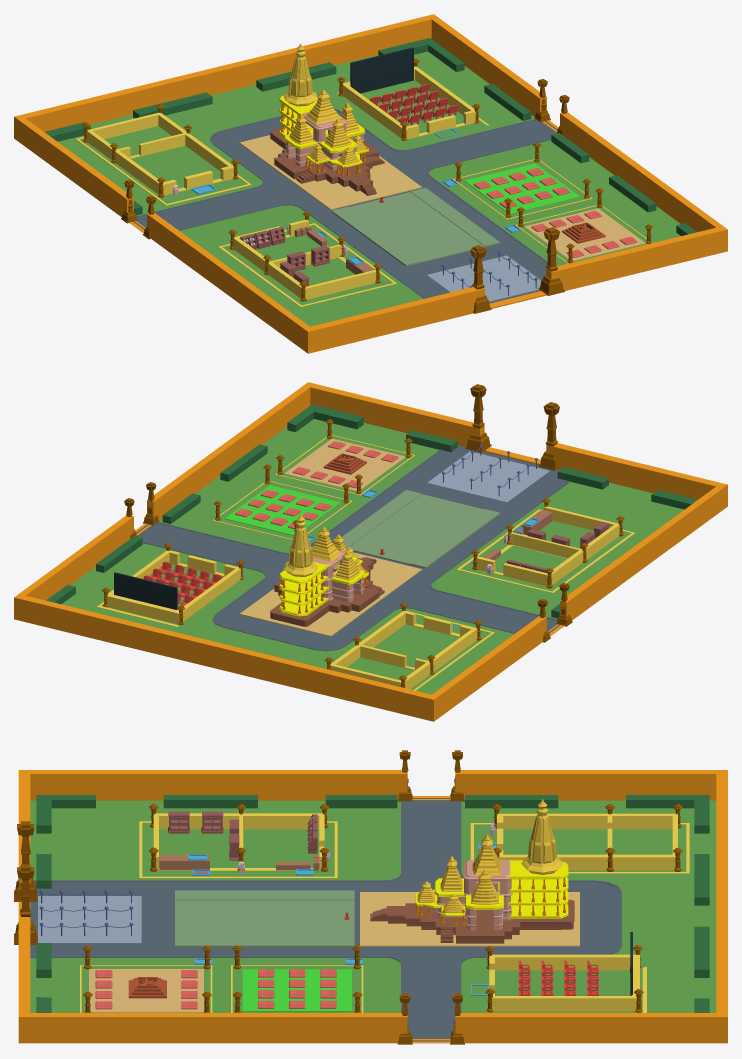
Rendered from Rammandir.fbx.
The picture shows the model from 3 angles, top to bottom: view 1: azimuth 30°, elevation 25°; view 2: azimuth 150°, elevation 25°; view 3: azimuth 270°, elevation 25°; orthographic projection. The views are drawn at different scales.
Visible parts, largest first — view 1: Plane.022, back wallBIG, Plane.005, Plane.008, Plane.007, Plane.035, Plane.023, Plane.034, pillars, Plane.015, Plane.028, Plane.018 (+15 smaller); view 2: back wallBIG, Plane.022, Plane.005, Plane.008, Plane.007, Plane.035, Plane.034, Plane.015, Plane.028, Plane.023, pillars, Plane.014 (+13 smaller); view 3: Plane.022, back wallBIG, Plane.005, Plane.008, Plane.007, Plane.035, Plane.028, Plane.015, Plane.023, Grid, Plane.014, Plane.027 (+20 smaller).
Part boxes in pixels (bbox=[...]): Plane.022: bbox=[58, 51, 680, 326]; back wallBIG: bbox=[14, 14, 727, 353]; Plane.005: bbox=[133, 108, 557, 303]; Plane.008: bbox=[331, 187, 500, 266]; Plane.007: bbox=[44, 38, 696, 235]; Plane.035: bbox=[87, 112, 233, 195]; Plane.023: bbox=[239, 135, 421, 209]; Plane.034: bbox=[233, 220, 376, 299]; pillars: bbox=[121, 79, 569, 313]; Plane.015: bbox=[427, 255, 541, 301]; Plane.028: bbox=[342, 66, 475, 139]; Plane.018: bbox=[289, 89, 365, 165]; back wallBIG: bbox=[14, 382, 727, 721]; Plane.022: bbox=[62, 419, 683, 694]; Plane.005: bbox=[136, 445, 570, 651]; Plane.008: bbox=[333, 490, 500, 568]; Plane.007: bbox=[46, 404, 697, 618]; Plane.035: bbox=[330, 610, 477, 689]; Plane.034: bbox=[476, 506, 619, 586]; Plane.015: bbox=[427, 451, 549, 502]; Plane.028: bbox=[106, 550, 240, 623]; Plane.023: bbox=[239, 552, 422, 636]; pillars: bbox=[124, 384, 572, 642]; Plane.014: bbox=[284, 438, 405, 490]; Plane.022: bbox=[30, 800, 716, 1012]; back wallBIG: bbox=[18, 770, 727, 1043]; Plane.005: bbox=[30, 798, 621, 1041]; Plane.008: bbox=[175, 890, 354, 947]; Plane.007: bbox=[36, 795, 709, 1012]; Plane.035: bbox=[497, 813, 677, 870]; Plane.028: bbox=[489, 954, 639, 1011]; Plane.015: bbox=[38, 896, 141, 943]; Plane.023: bbox=[360, 892, 579, 946]; Grid: bbox=[370, 899, 574, 943]; Plane.014: bbox=[89, 969, 203, 1012]; Plane.027: bbox=[242, 969, 351, 1011].
Bounding box in the file's own units: 9171 × 2098 × 11094.
